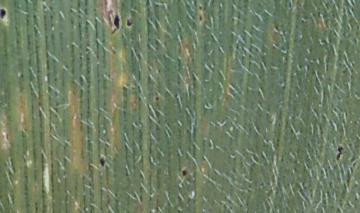tarspot: (110, 12, 121, 35), (335, 145, 344, 162), (1, 6, 8, 22), (124, 17, 134, 28), (180, 168, 188, 179), (98, 156, 105, 166), (153, 94, 161, 102), (197, 14, 204, 22), (298, 17, 306, 24), (196, 4, 203, 10), (287, 1, 292, 9)
